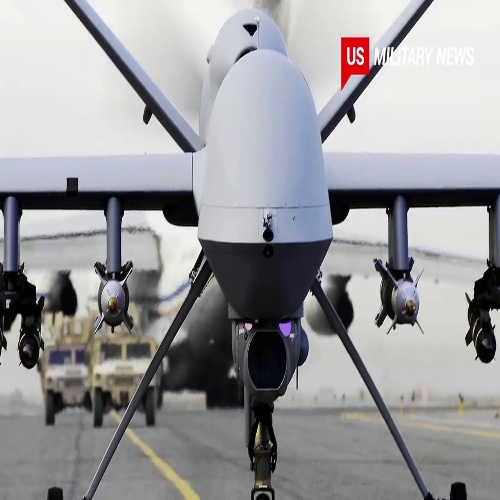uav: (1, 2, 500, 425)
